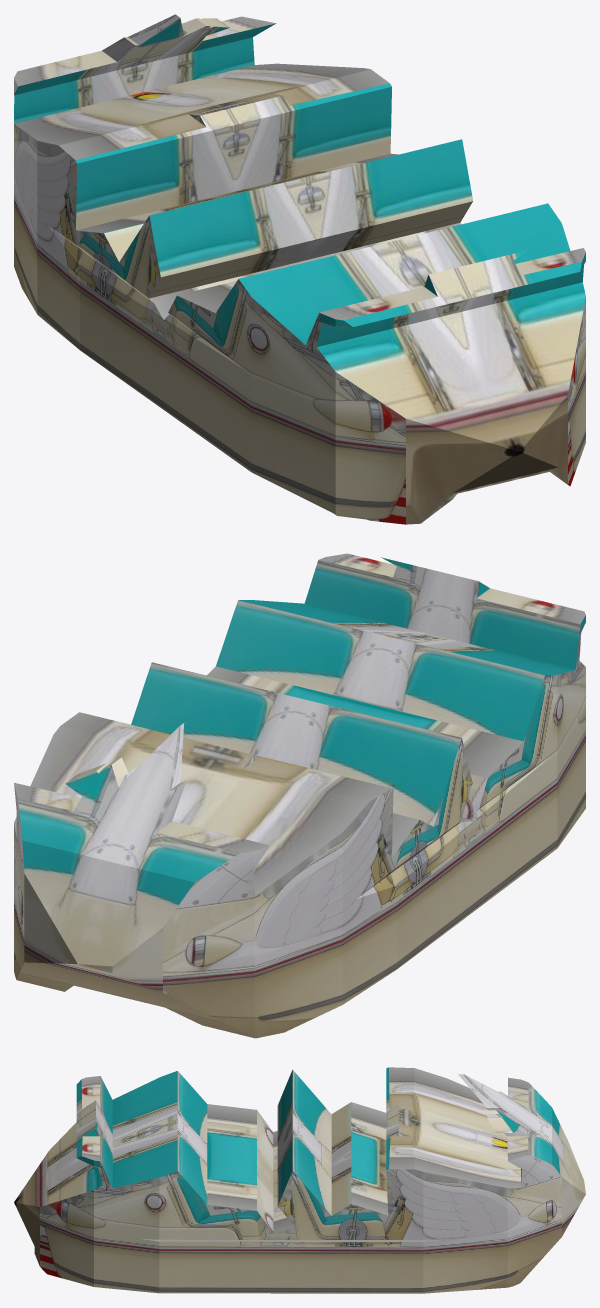
File: pedal_boat.glb
3 renders of one model, top to bottom at view 1: azimuth 30°, elevation 25°; view 2: azimuth 150°, elevation 25°; view 3: azimuth 270°, elevation 25°, orthographic. The views are drawn at different scales.
Parts seen in each view (by area): view 1: pedal_boat; view 2: pedal_boat; view 3: pedal_boat.
Boxes of the visible parts, x1,y1,x2,y2 form: pedal_boat: (14, 14, 585, 524); pedal_boat: (14, 553, 585, 1038); pedal_boat: (14, 1067, 585, 1293).
Bounding box in the file's own units: 1.06 × 0.85 × 2.5.
Materials: 2 (1 with a texture image).
